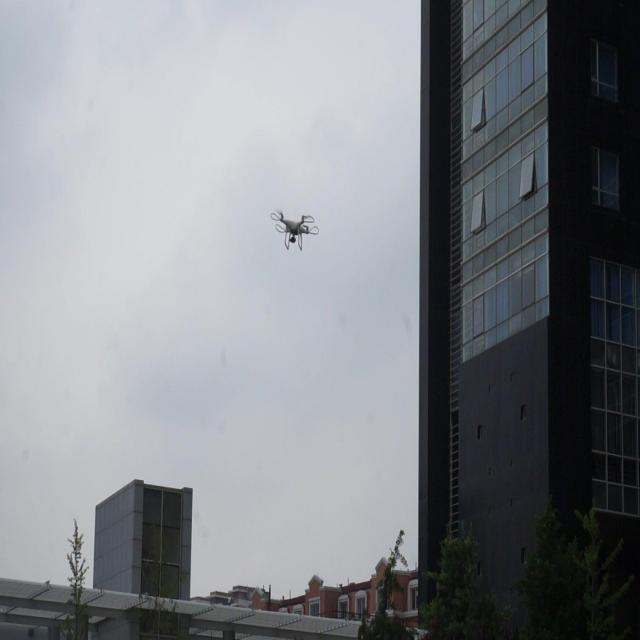UAV: (270, 210, 320, 251)
